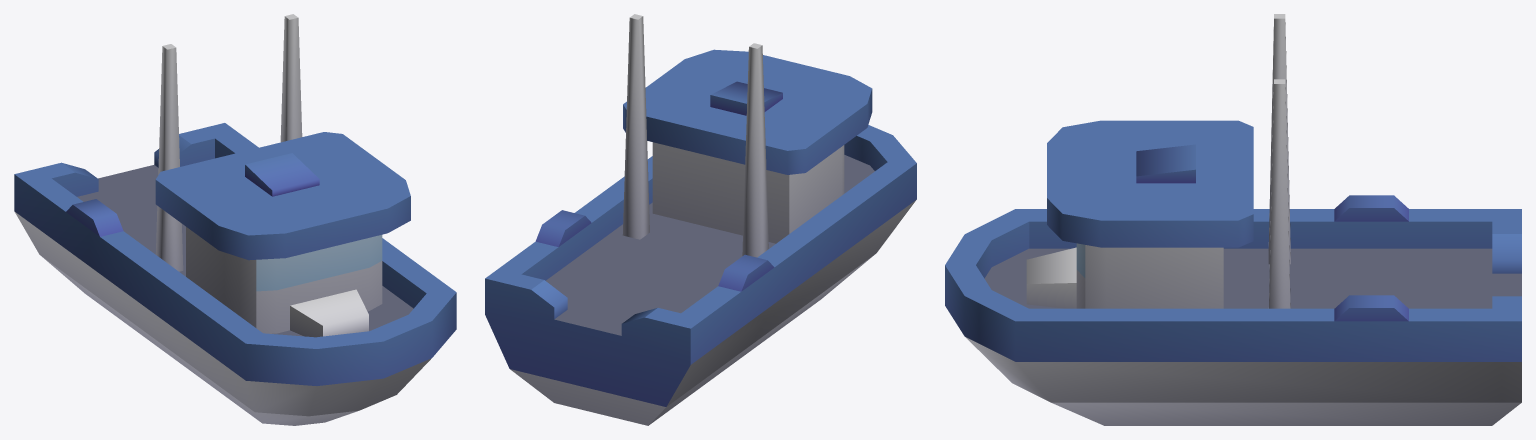
The model's file is boat-fishing-small.glb.
The picture shows the model from 3 angles, left to right: view 1: azimuth 30°, elevation 25°; view 2: azimuth 150°, elevation 25°; view 3: azimuth 270°, elevation 25°; orthographic projection. The views are drawn at different scales.
Parts seen in each view (by area): view 1: boat-fishing-small; view 2: boat-fishing-small; view 3: boat-fishing-small.
Part boxes in pixels (x1=…): boat-fishing-small: x1=14, y1=14, x2=456, y2=425; boat-fishing-small: x1=485, y1=14, x2=916, y2=425; boat-fishing-small: x1=945, y1=14, x2=1521, y2=425.
Size of the model in its own units: 1.78 by 2.6 by 3.87.
